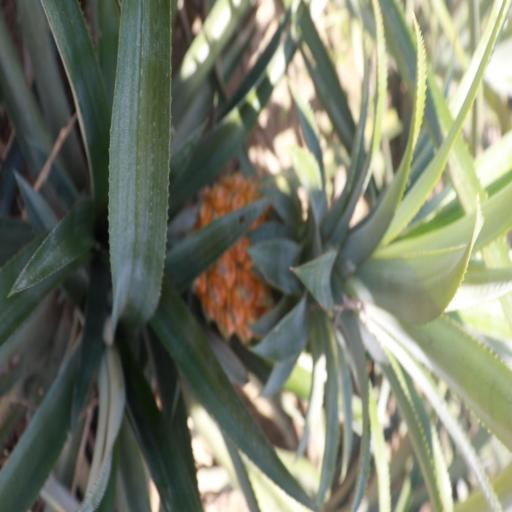Pineapple - v8 v1: (199, 170, 478, 351)
